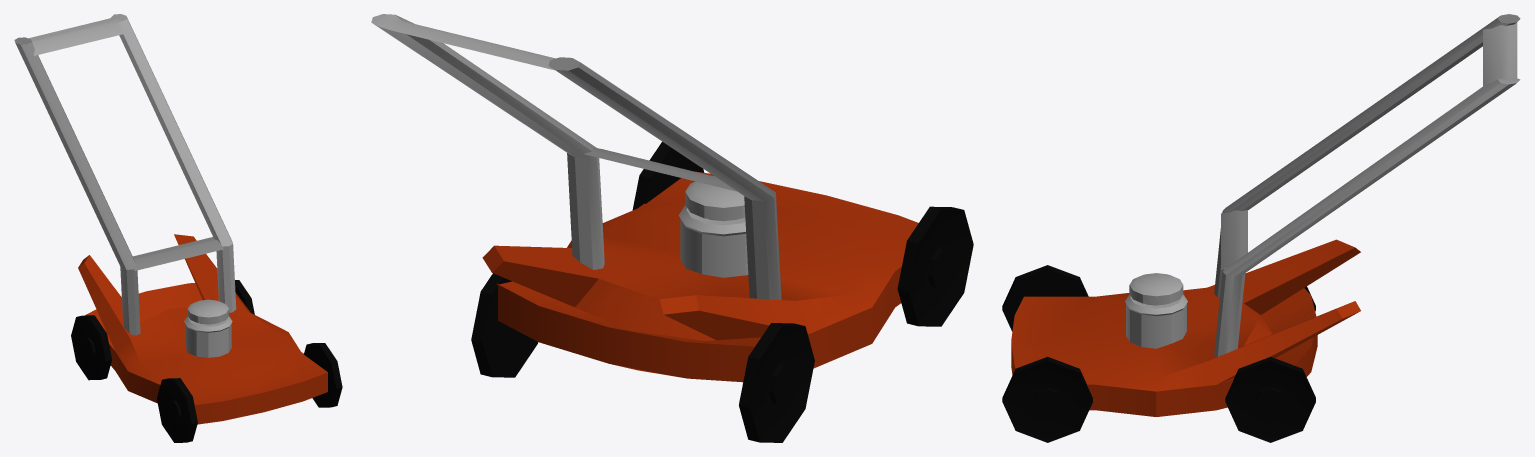
Rendered from CortadorDeGrama.fbx.
The picture shows the model from 3 angles, left to right: view 1: azimuth 30°, elevation 25°; view 2: azimuth 150°, elevation 25°; view 3: azimuth 270°, elevation 25°; orthographic projection. The views are drawn at different scales.
Visible parts, largest first — view 1: CortadorDeGrama; view 2: CortadorDeGrama; view 3: CortadorDeGrama.
Boxes of the visible parts, left/top/right/bottom form: CortadorDeGrama: left=14, top=14, right=342, bottom=442; CortadorDeGrama: left=371, top=14, right=973, bottom=442; CortadorDeGrama: left=1002, top=14, right=1520, bottom=442.
Bounding box in the file's own units: 31.83 × 50.29 × 68.46.
1 material, 1 textured.
